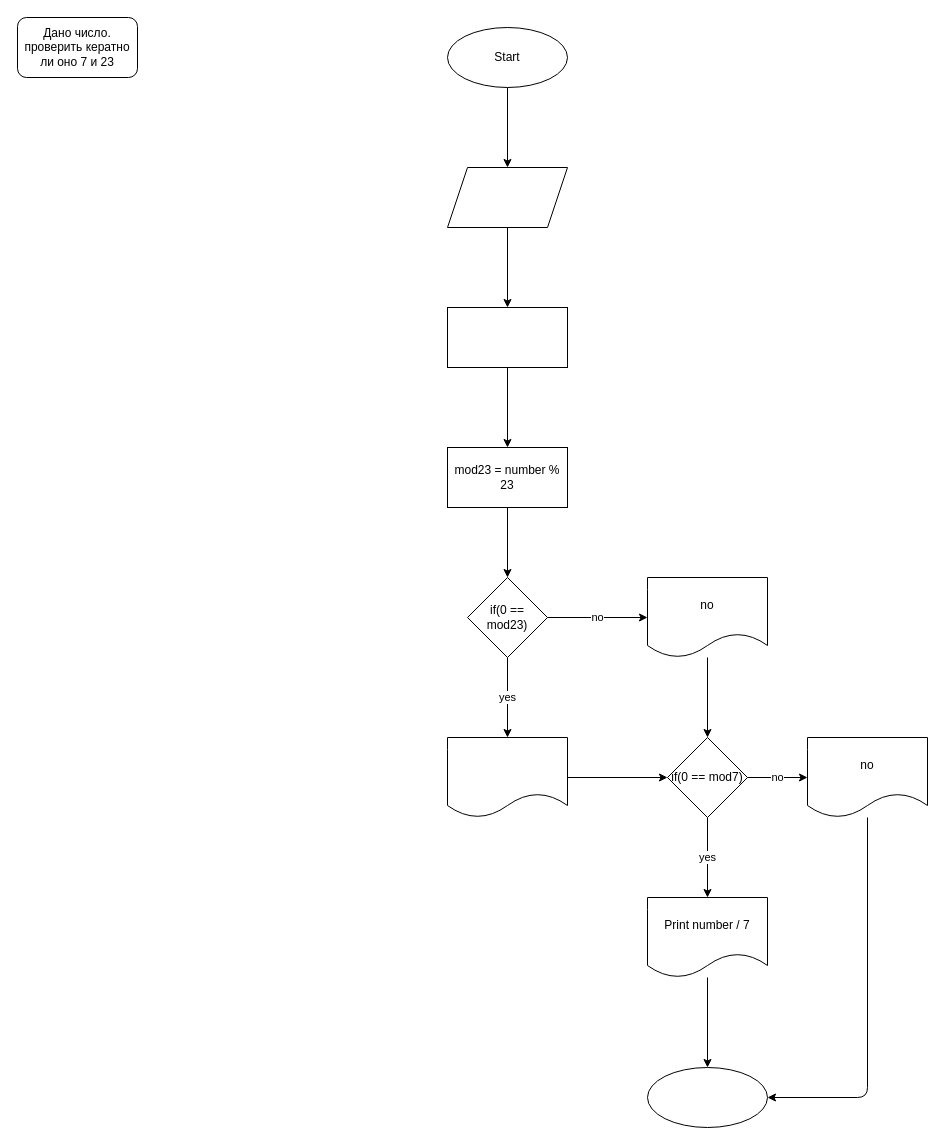
The diagram is 945 pixels wide and 1145 high, and some of its shapes have lost their labels. Here are the shapes that lost their labels. From the top down, the box of each, then its label:
(446, 166, 568, 228): number
(446, 306, 568, 368): mod7 = number % 7
(446, 736, 568, 818): Print number / 23
(646, 1066, 768, 1128): End
